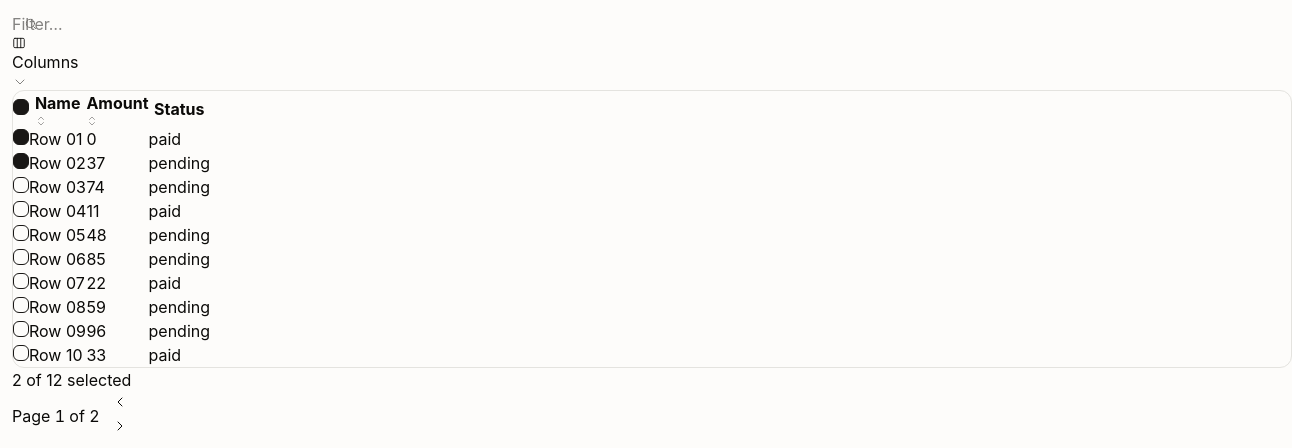
Test case: DataTable › counts only selected rows that match the filter
Check: the text "2 of 12 selected" is shown, box [12, 368, 131, 392]
In the field with placeholder "Filter…": (136, 24) [12, 12, 260, 36], type "Row 01"
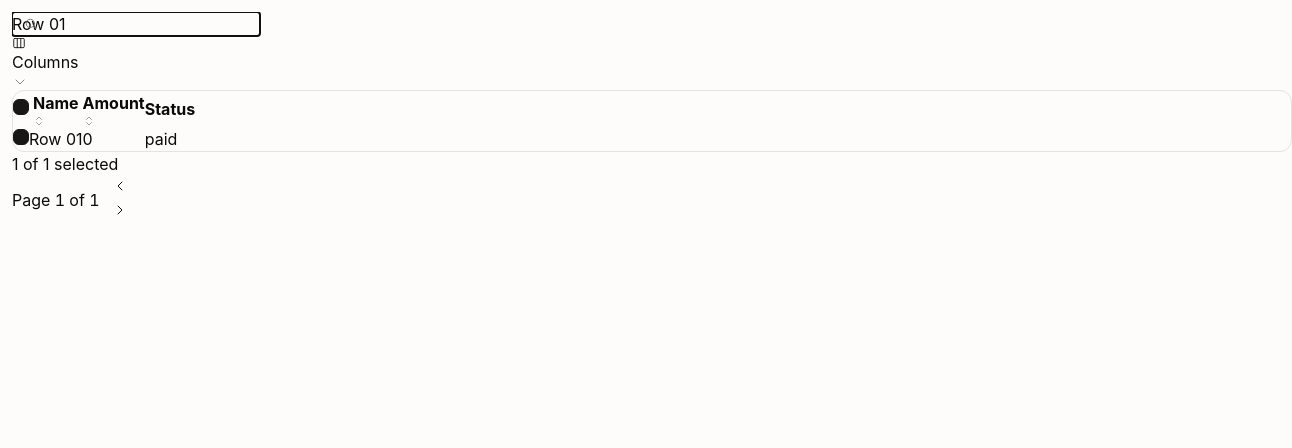
Check: the text "1 of 1 selected" is shown, box [12, 152, 118, 176]
